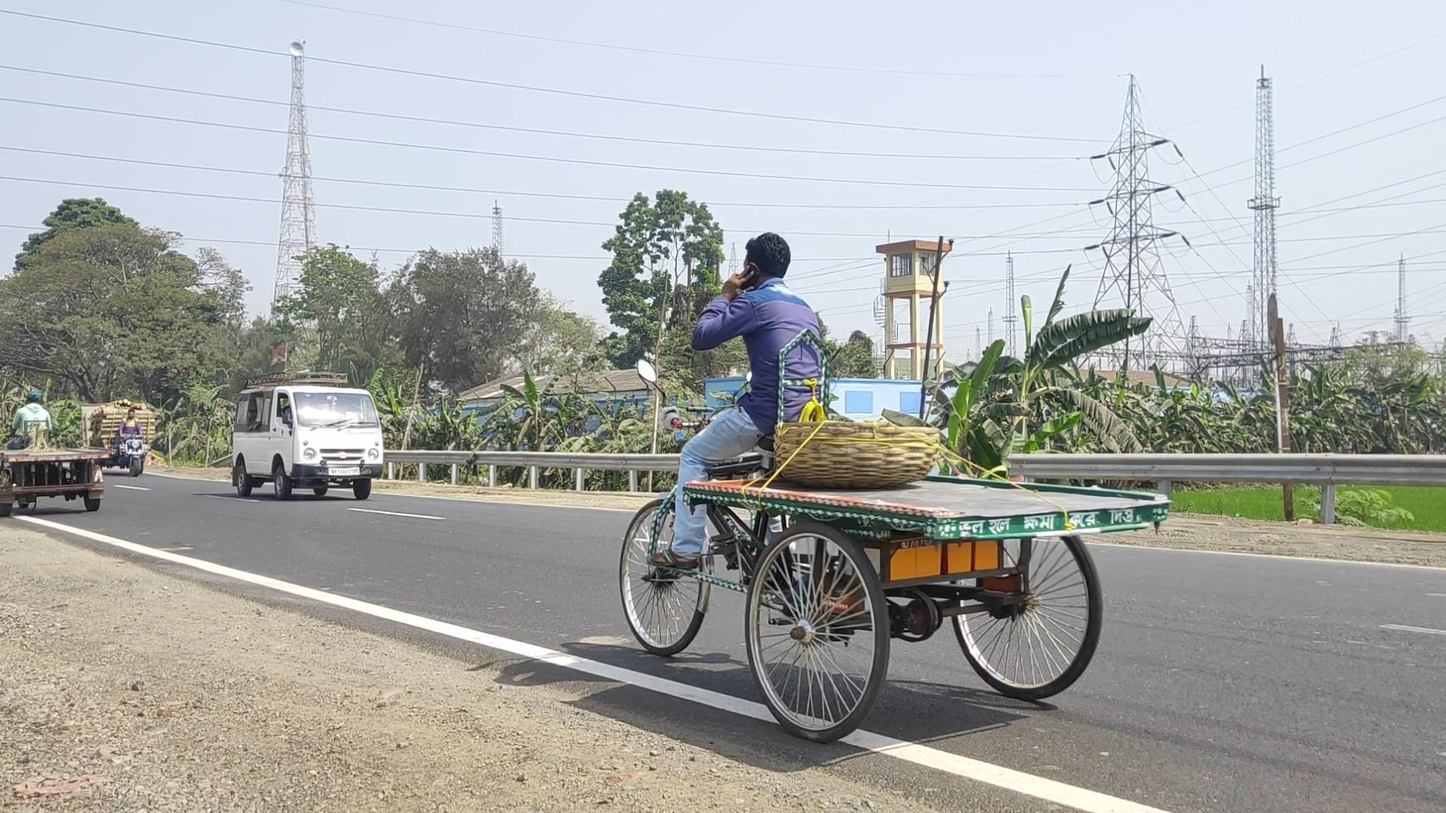van: (231, 371, 383, 500)
